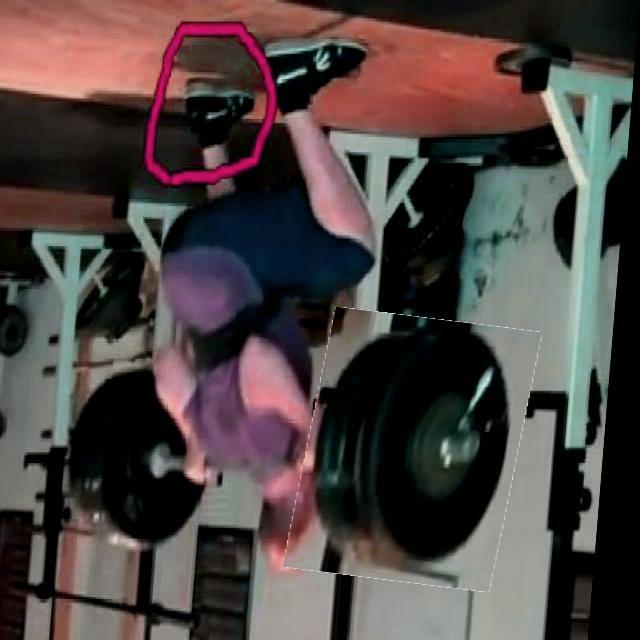barbell: (300, 312, 542, 587)
